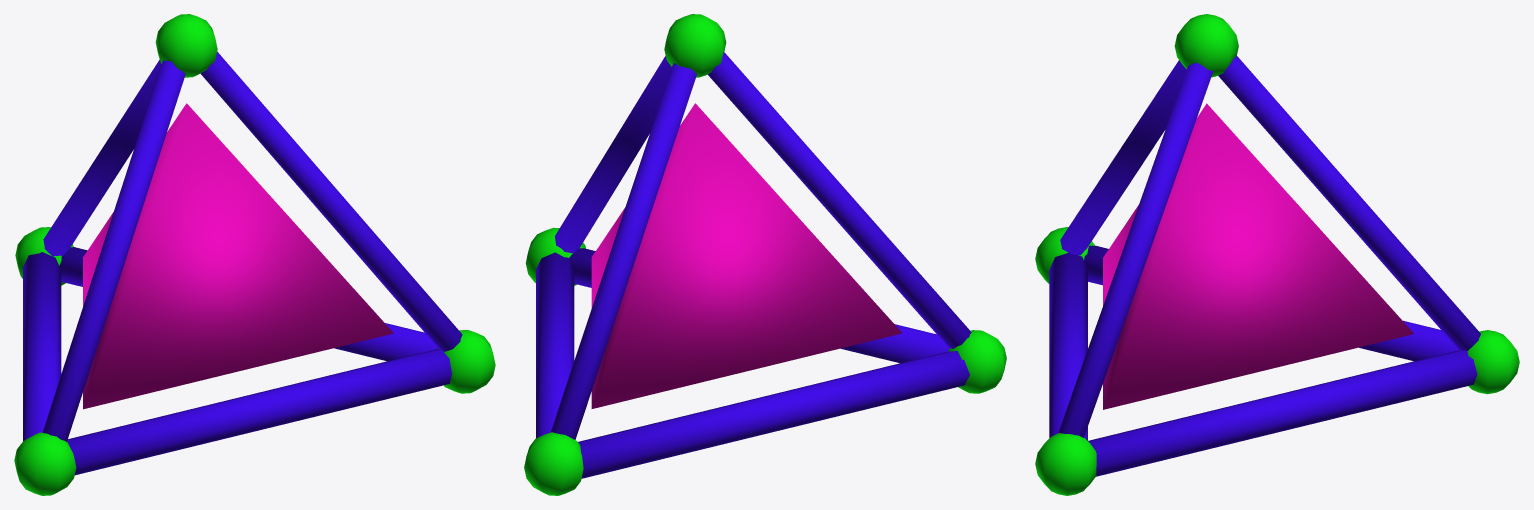
File: SplashBom.fbx
3 views of the same model, side by side, from view 1: azimuth 30°, elevation 25°; view 2: azimuth 150°, elevation 25°; view 3: azimuth 270°, elevation 25° (orthographic).
Parts seen in each view (by area): view 1: 円錐.001; view 2: 円錐.001; view 3: 円錐.001.
Part boxes in pixels (x1,y1,x2,y2): 円錐.001: [14, 14, 495, 495]; 円錐.001: [524, 14, 1006, 495]; 円錐.001: [1035, 14, 1519, 495].
Size of the model in its own units: 196 by 147 by 173.
